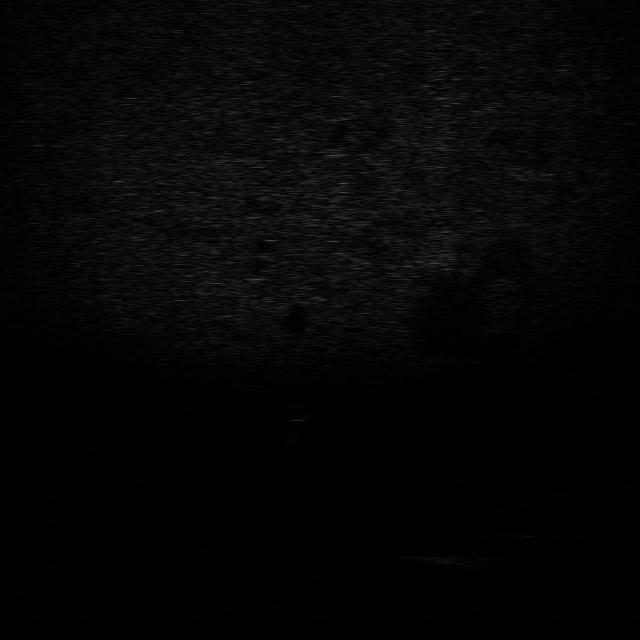ball: (276, 401, 315, 422)
metal bucket: (408, 545, 487, 572)
tyre: (490, 518, 562, 542)
